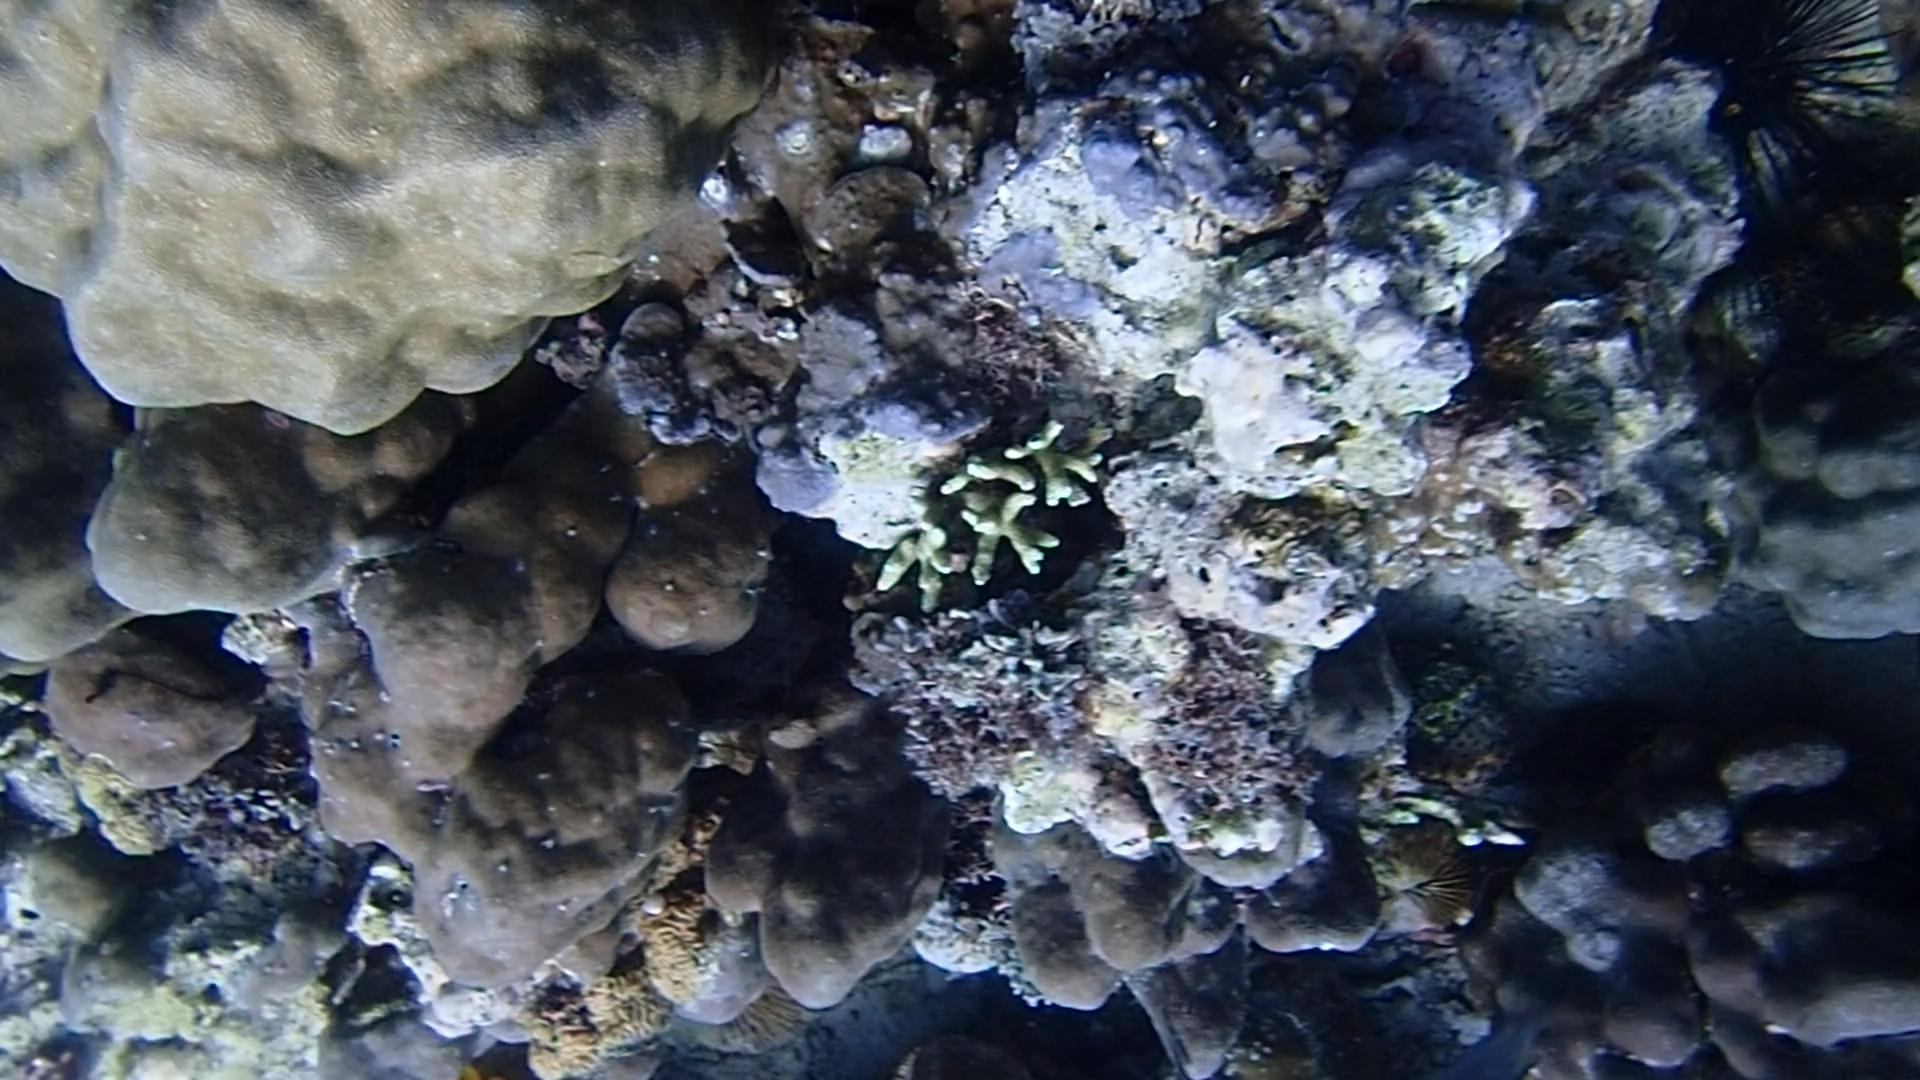Blue Fish Two: (1427, 1006, 1575, 1080)
